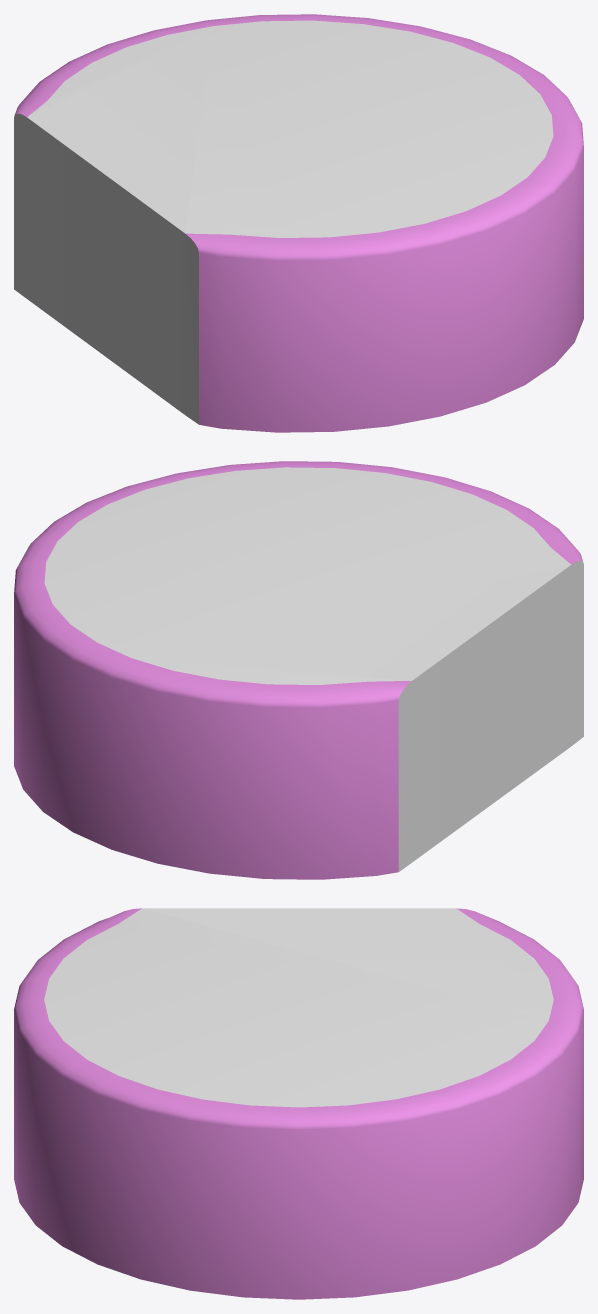
File: finishPlatformCircle.fbx
The picture shows the model from 3 angles, top to bottom: view 1: azimuth 30°, elevation 25°; view 2: azimuth 150°, elevation 25°; view 3: azimuth 270°, elevation 25°; orthographic projection.
Visible parts, largest first — view 1: Cylinder; view 2: Cylinder; view 3: Cylinder.
Part boxes in pixels (left/top/right/bottom): Cylinder: left=14, top=14, right=583, bottom=432; Cylinder: left=14, top=461, right=583, bottom=879; Cylinder: left=14, top=908, right=583, bottom=1299.
Size of the model in its own units: 517 by 204 by 588.
